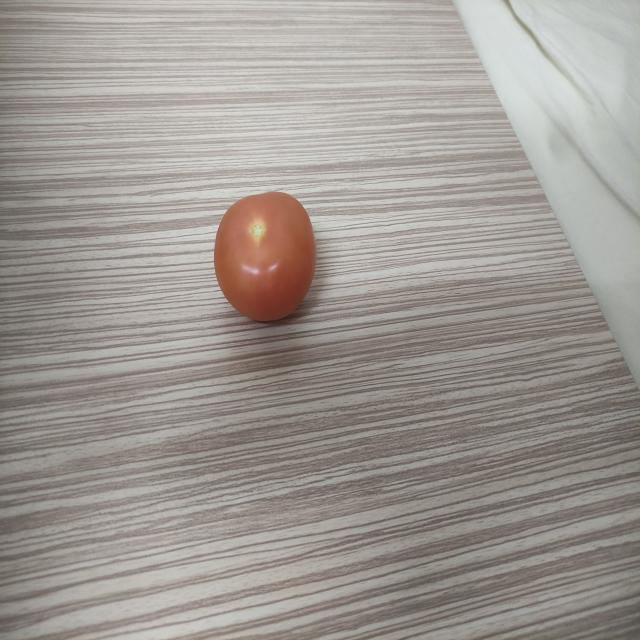sari: (214, 179, 330, 321)
